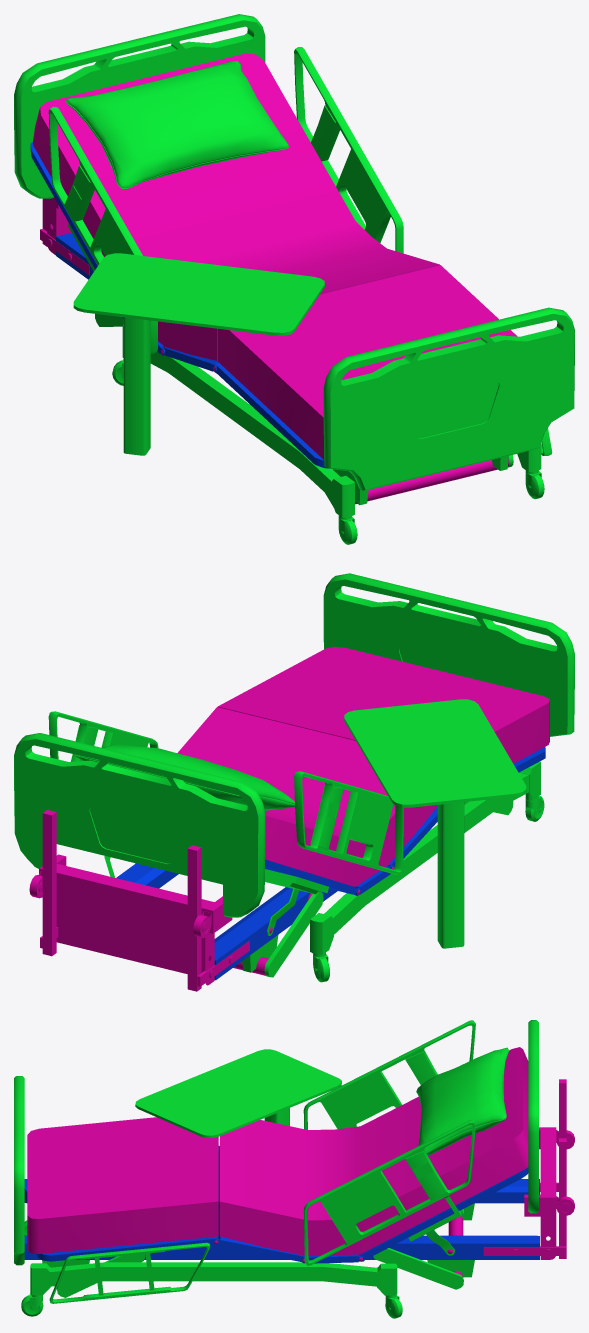
Rendered from Nursing XR_Hospital Bed_Export0.8.fbx.
3 renders of one model, top to bottom at view 1: azimuth 30°, elevation 25°; view 2: azimuth 150°, elevation 25°; view 3: azimuth 270°, elevation 25°, orthographic. The views are drawn at different scales.
Parts seen in each view (by area): view 1: Hospital Bed; view 2: Hospital Bed; view 3: Hospital Bed.
Part boxes in pixels (x1,y1,x2,y2): Hospital Bed: (14,14,574,544); Hospital Bed: (14,573,574,991); Hospital Bed: (14,1020,574,1318).
Bounding box in the file's own units: 142 × 100 × 236.
